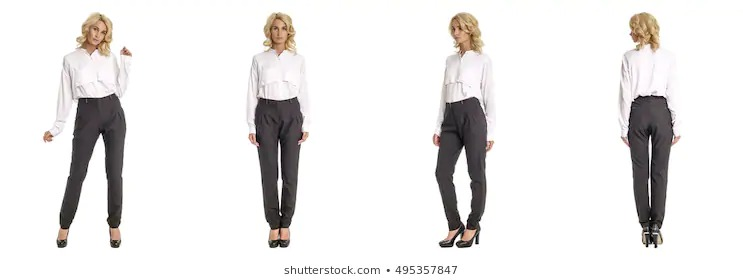F_shirt: (43, 41, 138, 140), (602, 41, 697, 140), (245, 37, 316, 139), (433, 43, 502, 145)
S_W_pants: (59, 91, 131, 222), (253, 95, 309, 228), (627, 96, 681, 227), (440, 94, 489, 225)
